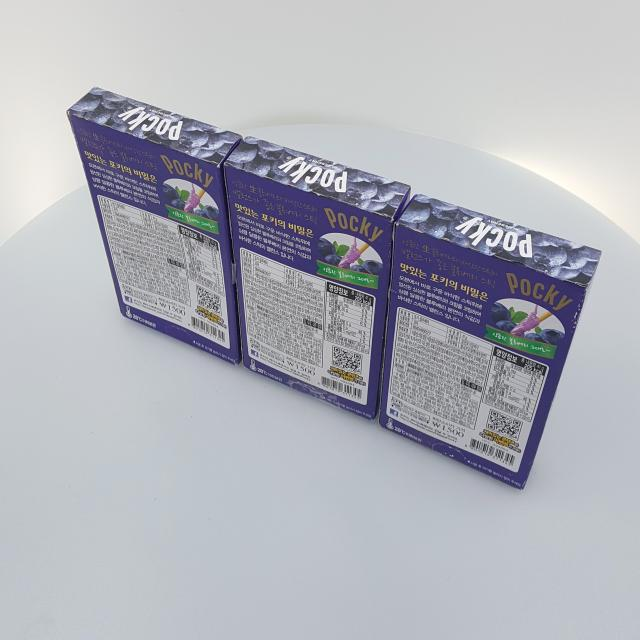-41G: (378, 195, 603, 491), (67, 86, 259, 367), (224, 137, 412, 422)
